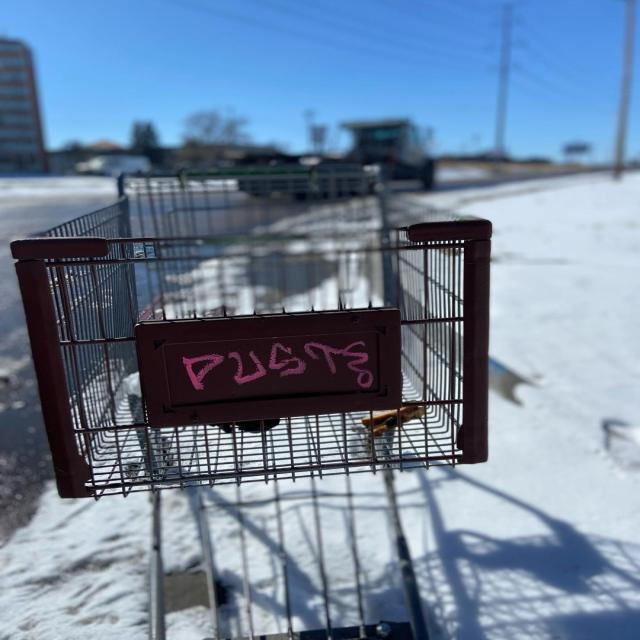-: (183, 342, 380, 390)
